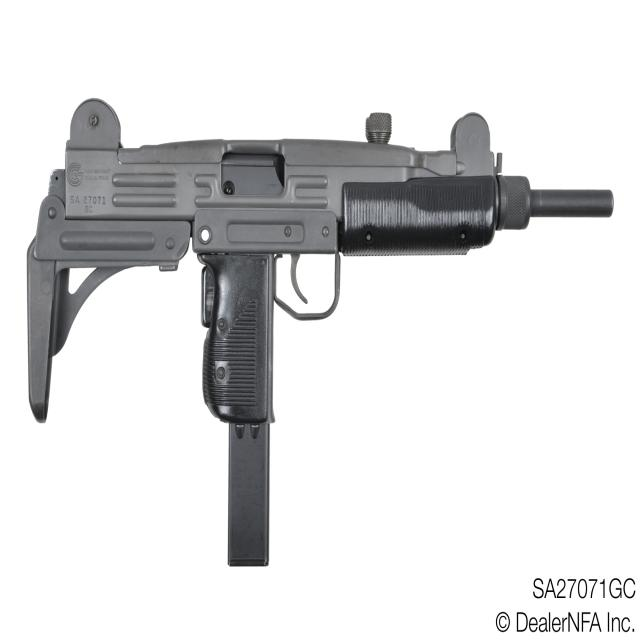SMG: (26, 99, 616, 570)
